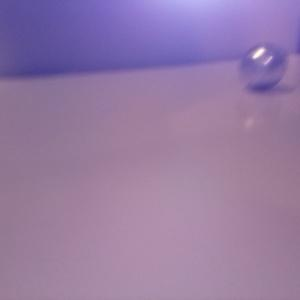alive_ball: (239, 42, 285, 89)
